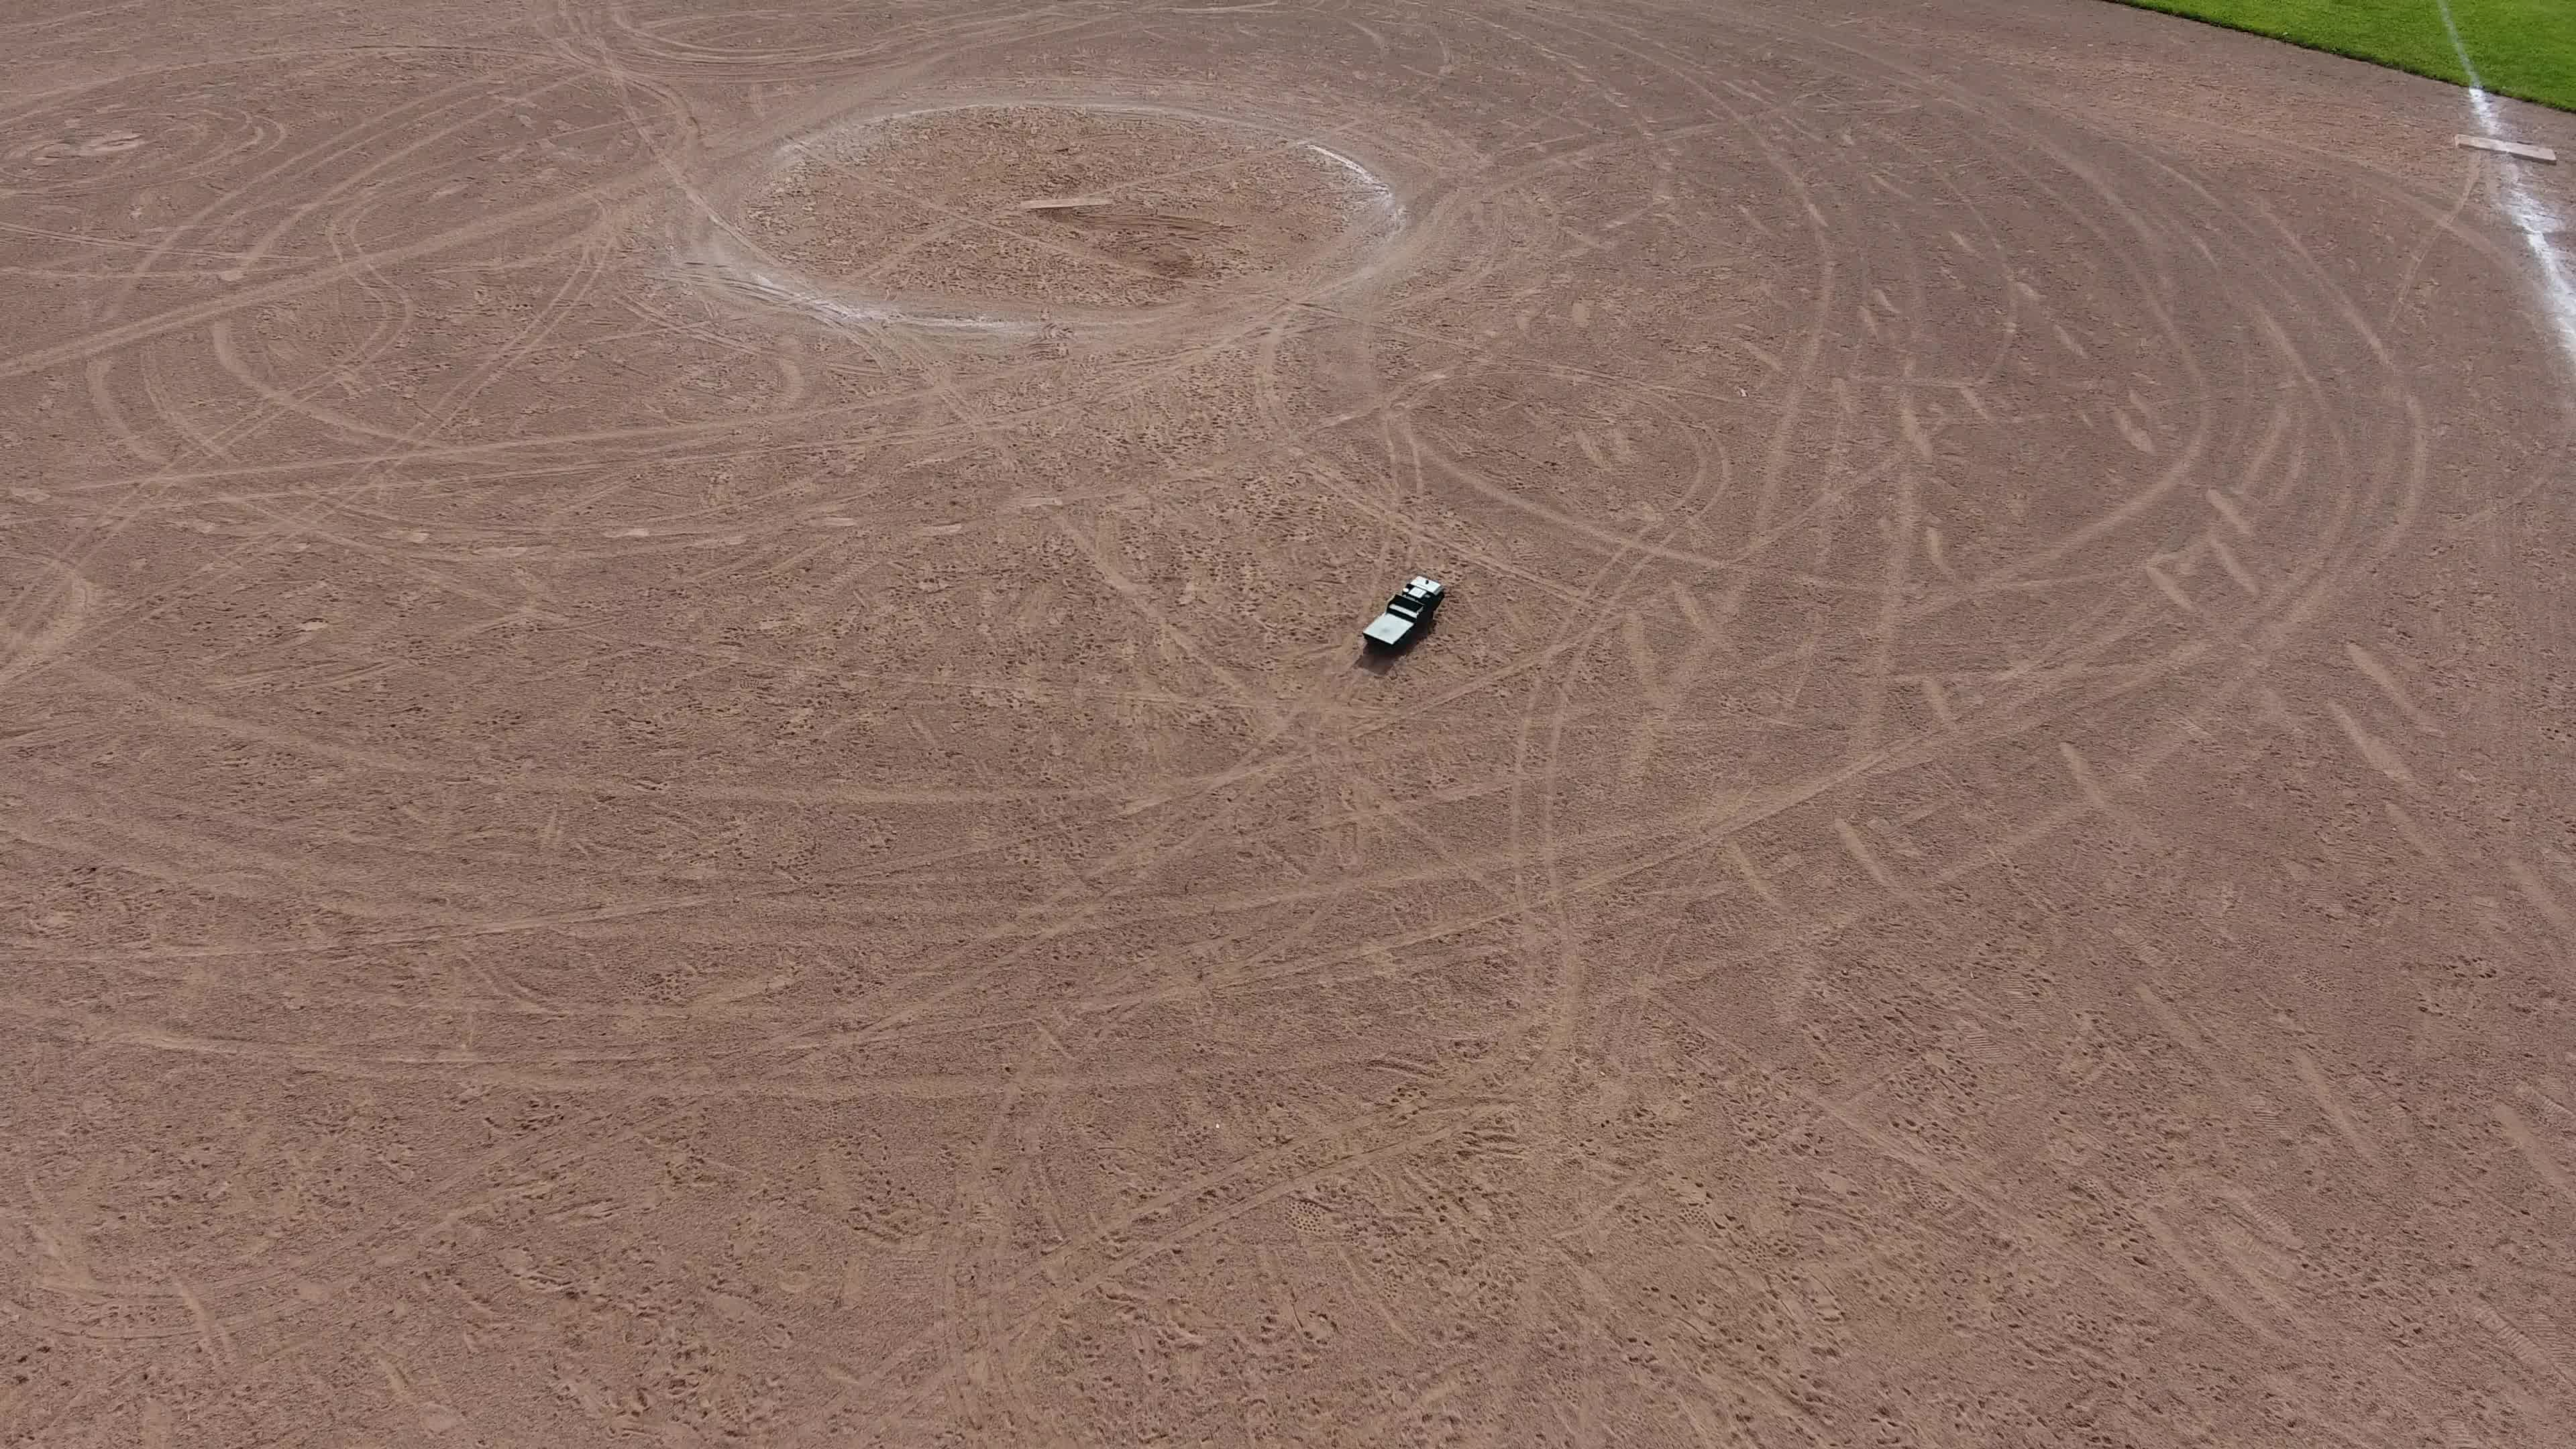transporter9: (1355, 566, 1449, 663)
